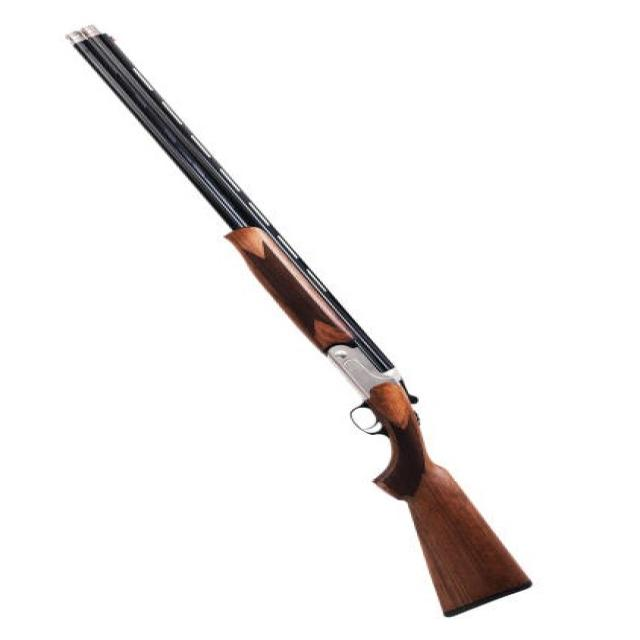rifle: (53, 10, 539, 618)
